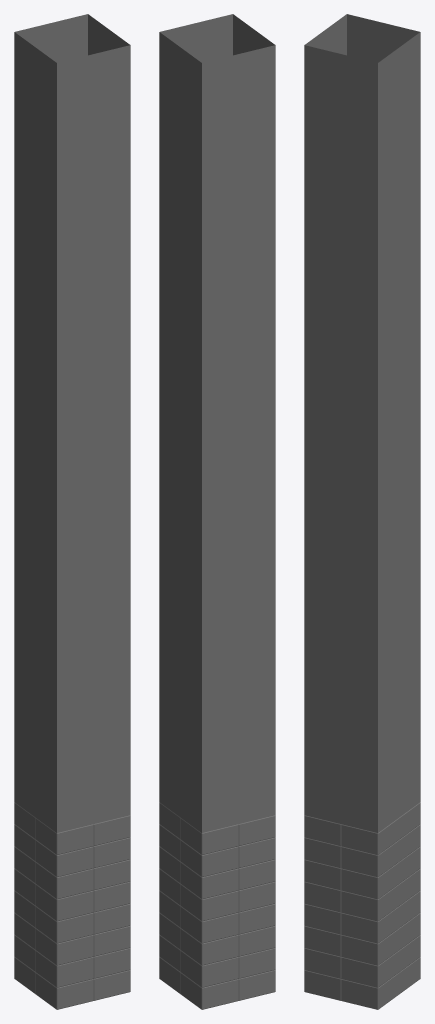
The model's file is tesla_structure_platform_01_sleeve.dae.
3 renders of one model, left to right at view 1: azimuth 30°, elevation 25°; view 2: azimuth 210°, elevation 25°; view 3: azimuth 330°, elevation 25°, orthographic.
Visible parts, largest first — view 1: tesla_structure_pillar_bg_02_polySurface8; view 2: tesla_structure_pillar_bg_02_polySurface8; view 3: tesla_structure_pillar_bg_02_polySurface8.
Part boxes in pixels (bbox=[...]): tesla_structure_pillar_bg_02_polySurface8: bbox=[14, 14, 130, 1009]; tesla_structure_pillar_bg_02_polySurface8: bbox=[159, 14, 275, 1009]; tesla_structure_pillar_bg_02_polySurface8: bbox=[304, 14, 420, 1009].
Bounding box in the file's own units: 10200 × 124500 × 10201.
